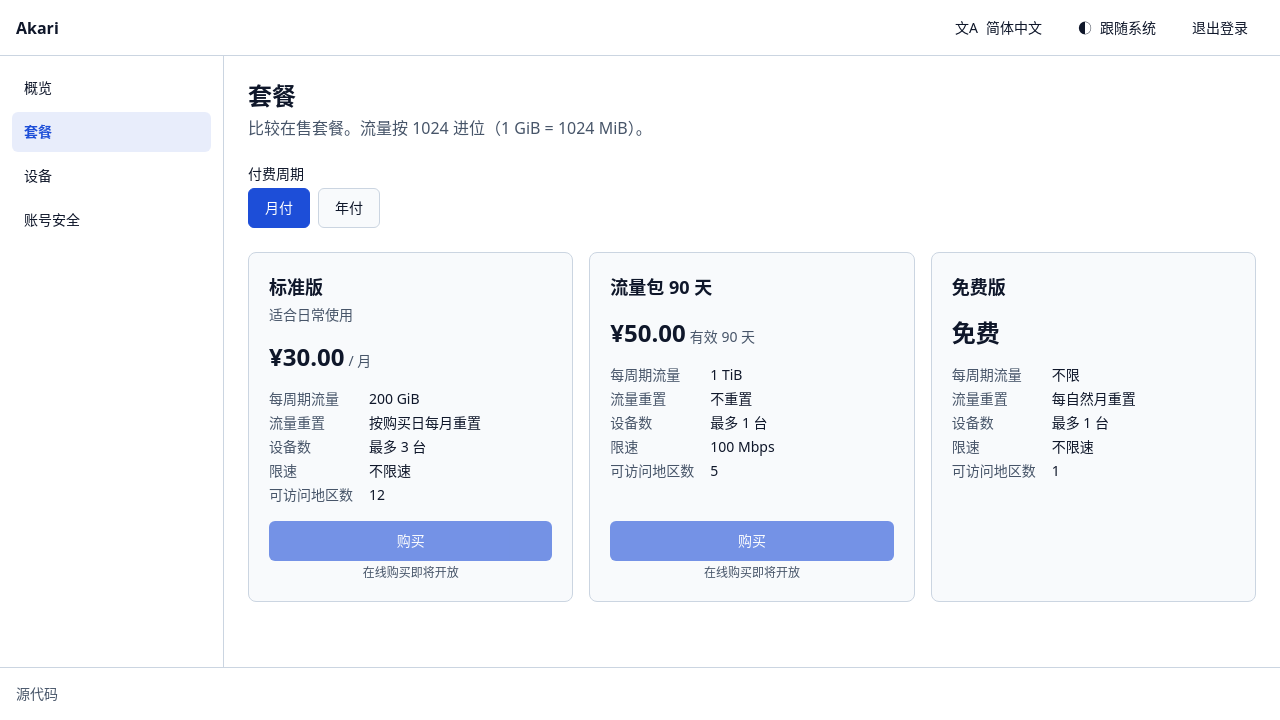
Test case: 套餐页（spec/32 32.2） › 对比在售套餐，按周期显示价格；流量以 IEC 单位显示；购买按钮暂不可用
expect the element "标准版" shows "¥30.00/ 月": met, box left=248, top=252, right=573, bottom=602
expect the text "200 GiB" is shown: met, box left=369, top=389, right=420, bottom=408
Click the radio button labelled "年付" at (349, 208), box left=318, top=188, right=380, bottom=228
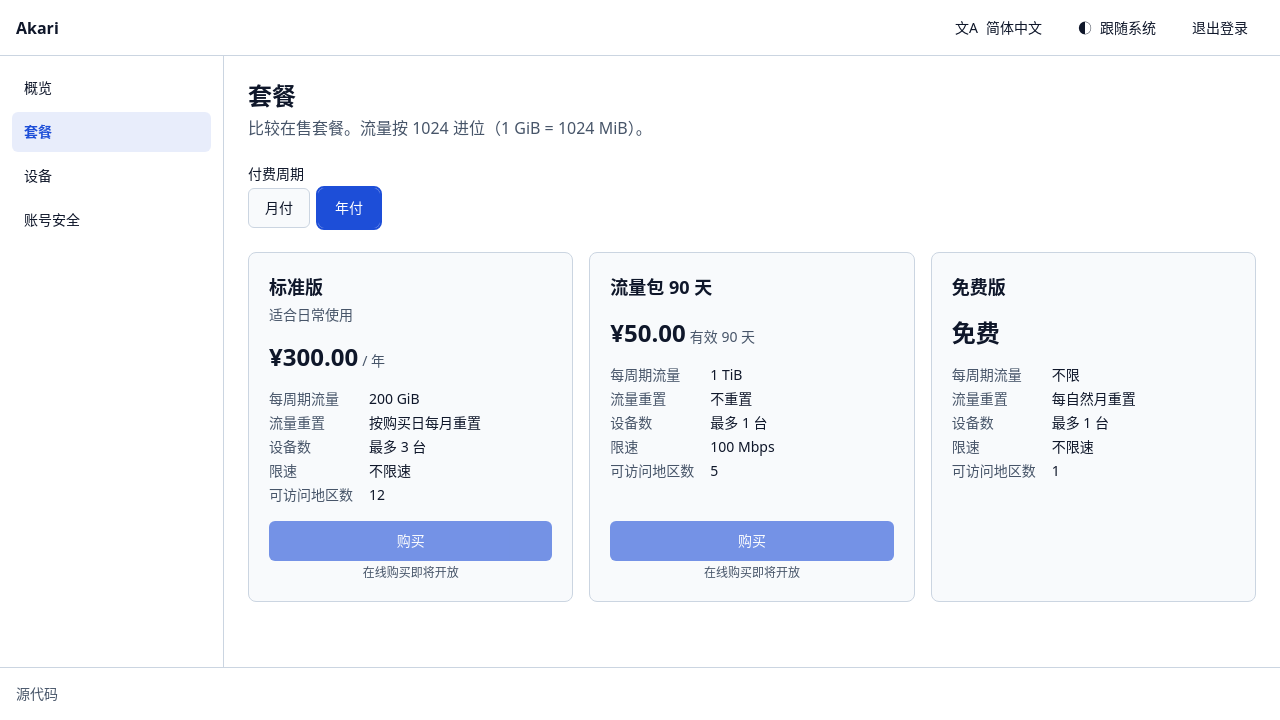
expect the element "流量包 90 天" shows "¥50.00有效 90 天": met, box left=589, top=252, right=915, bottom=602
expect the element "标准版" shows "¥300.00/ 年": met, box left=248, top=252, right=573, bottom=602
